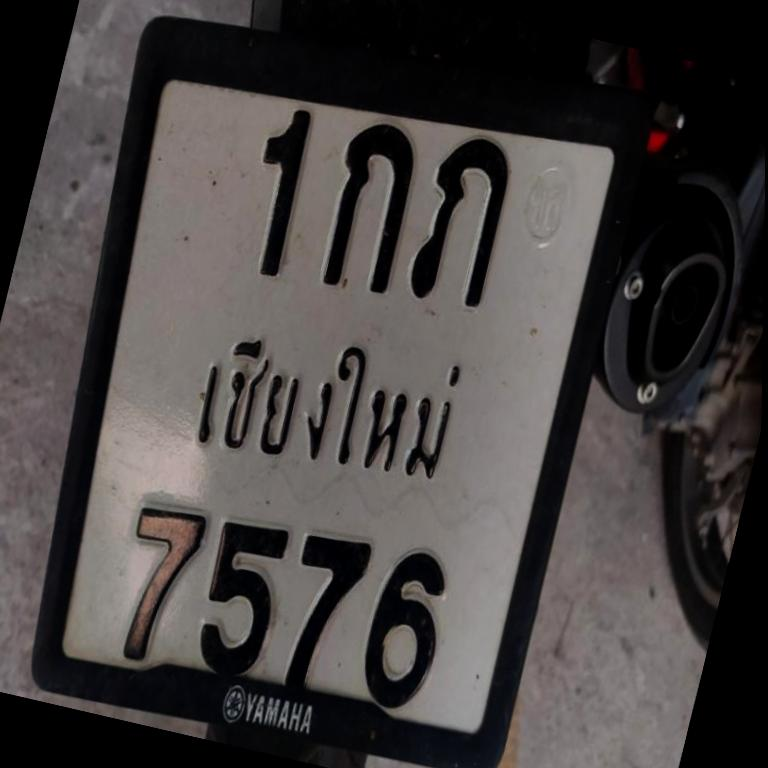license plate: (32, 17, 648, 768)
